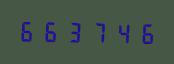four: (110, 20, 132, 44)
seven: (87, 20, 109, 44)
six: (17, 18, 39, 43), (133, 20, 155, 45), (40, 19, 62, 43)
three: (64, 19, 86, 43)
